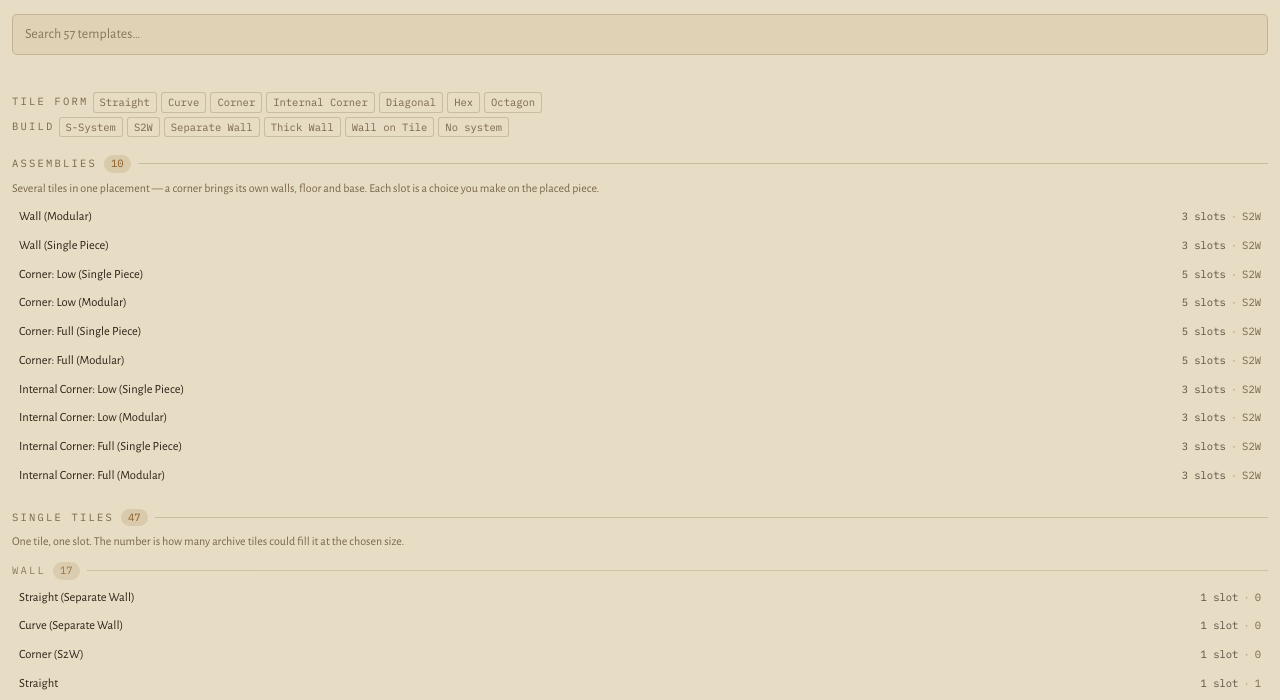
Test: the palette › offers a wall assembly a size control, which is what the fold bought
Click the button "Wall (Single Piece) 3 slots S2W" at {"x": 64, "y": 245}, box [12,233,1268,259]
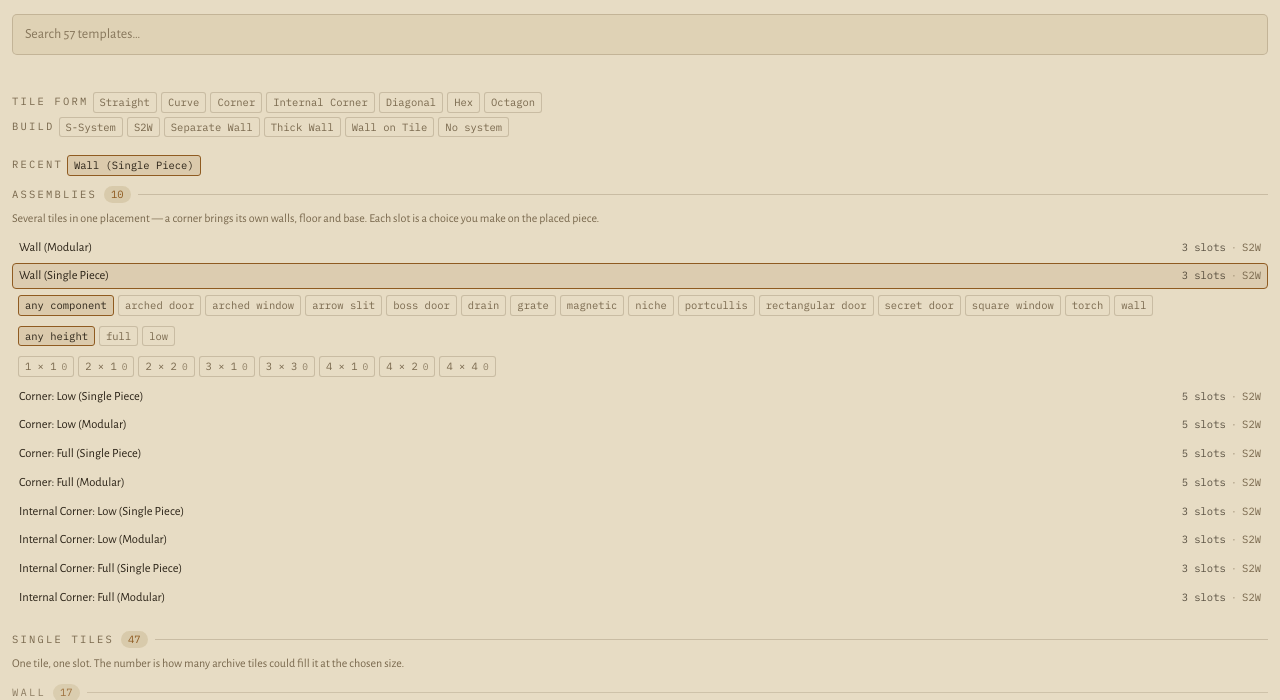
expect the element named "Size for" is shown: met, box [18,356,496,377]
